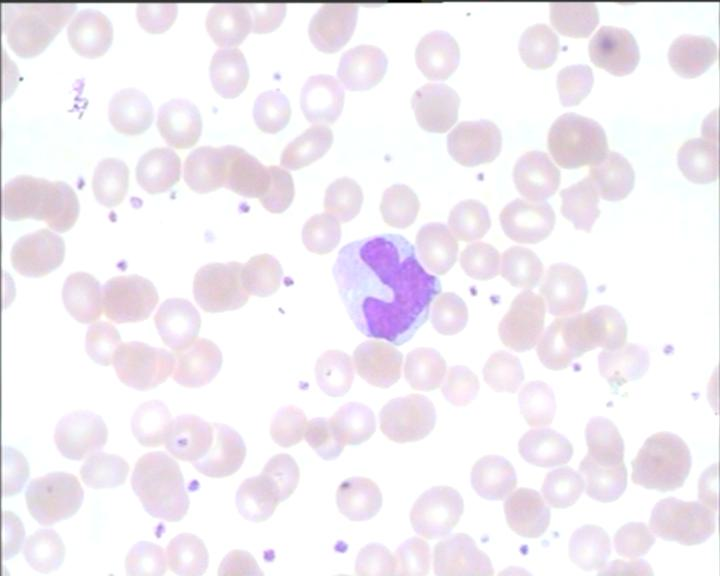mono: (327, 229, 443, 348)
